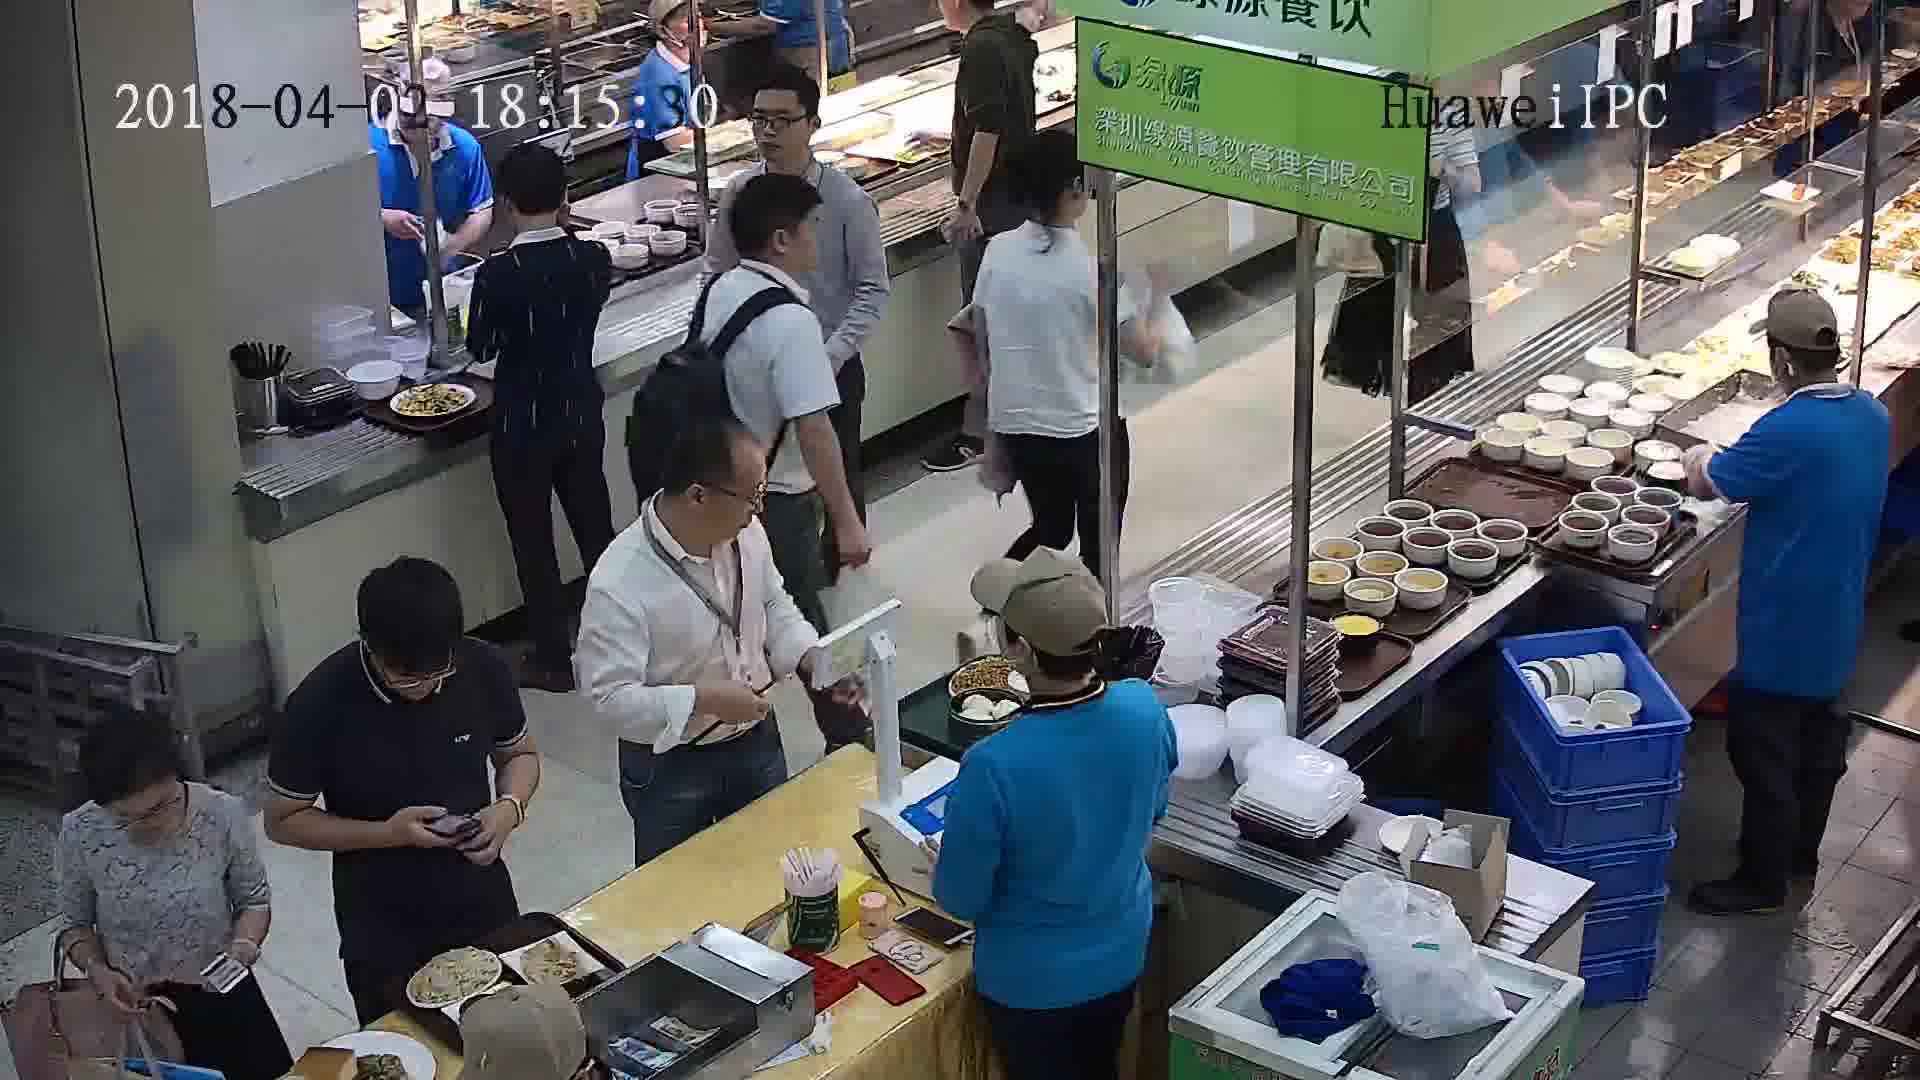face: (695, 460, 775, 539), (769, 204, 841, 276), (746, 90, 816, 160)
person: (962, 561, 1170, 801), (586, 410, 784, 630), (287, 556, 520, 741), (58, 708, 255, 883), (1734, 286, 1898, 480), (695, 171, 830, 352), (468, 145, 608, 302), (982, 130, 1112, 299), (731, 74, 869, 218), (370, 55, 490, 176), (631, 2, 714, 93), (942, 0, 1042, 68)
